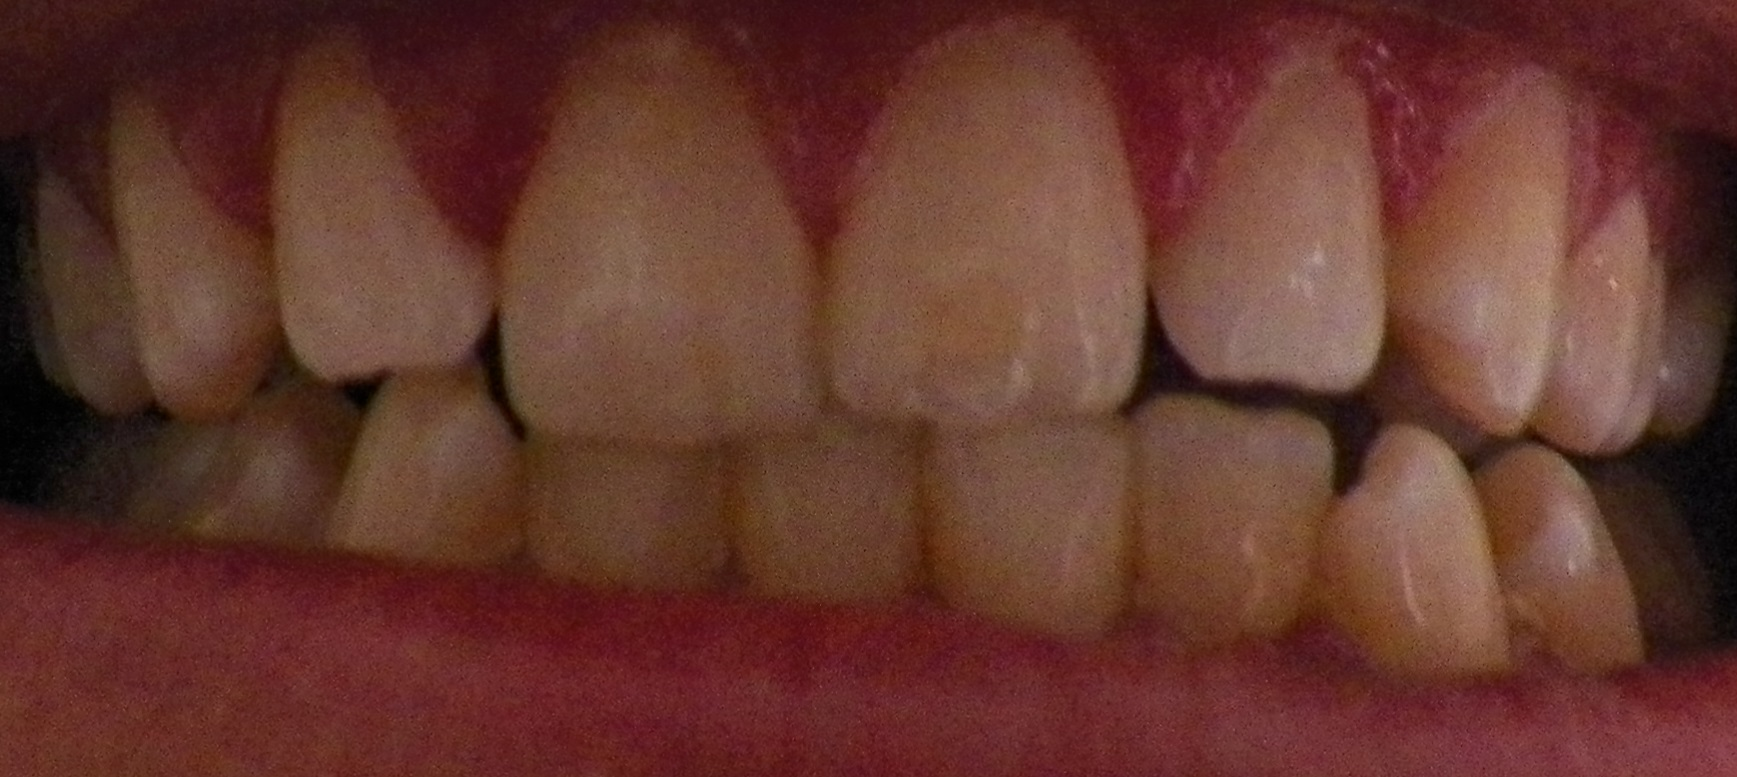boca: (48, 52, 1710, 665)
